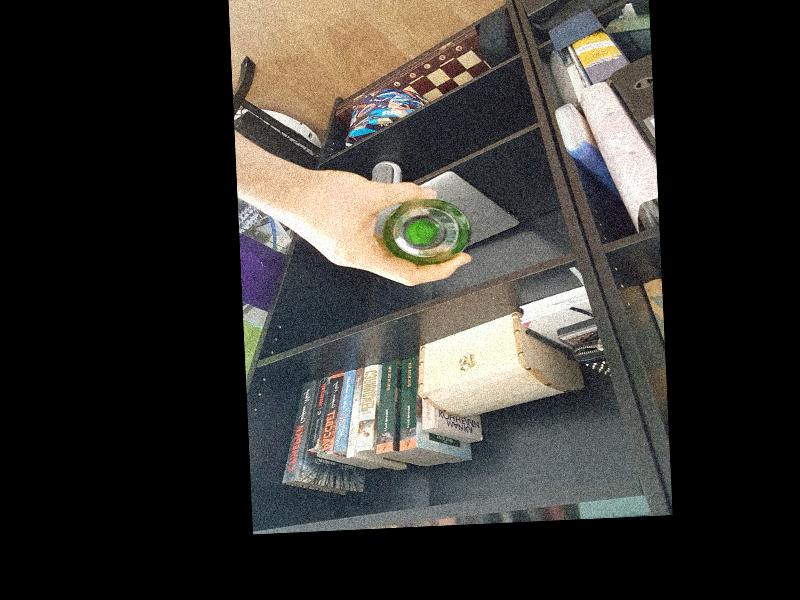Beer: (383, 196, 467, 266)
